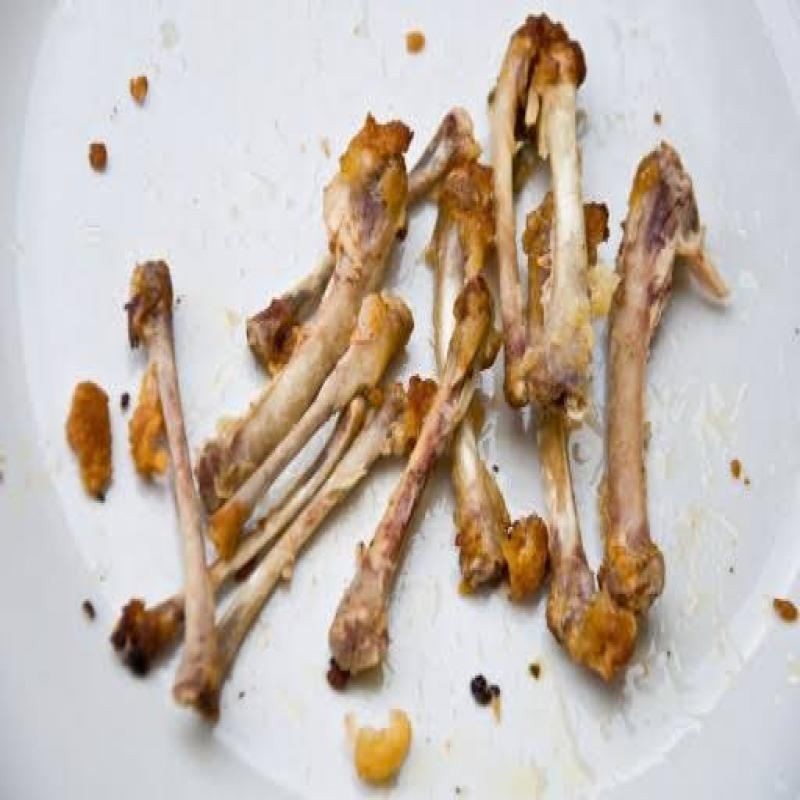left-over food: (126, 259, 437, 722), (194, 119, 412, 517), (327, 266, 504, 687), (599, 146, 732, 619), (200, 294, 413, 561), (489, 10, 609, 412), (533, 397, 641, 684), (444, 400, 549, 601), (431, 161, 497, 325), (407, 105, 480, 205), (108, 590, 183, 667), (64, 376, 112, 495), (523, 192, 553, 347)
